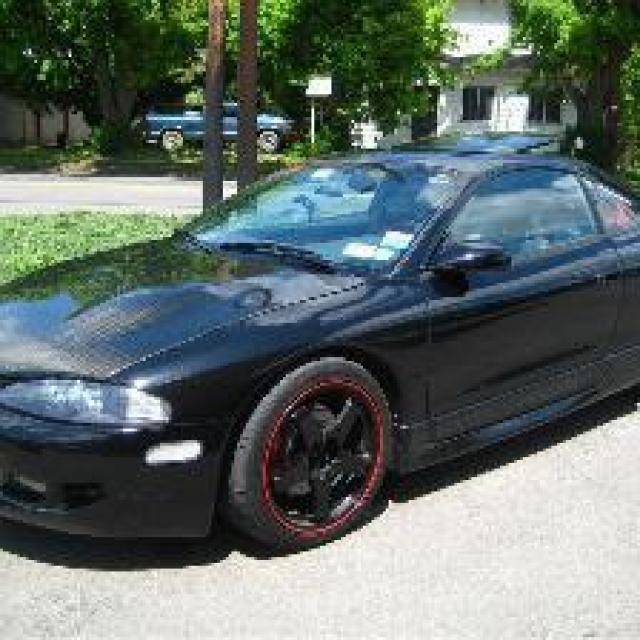damaged: (59, 283, 294, 383)
